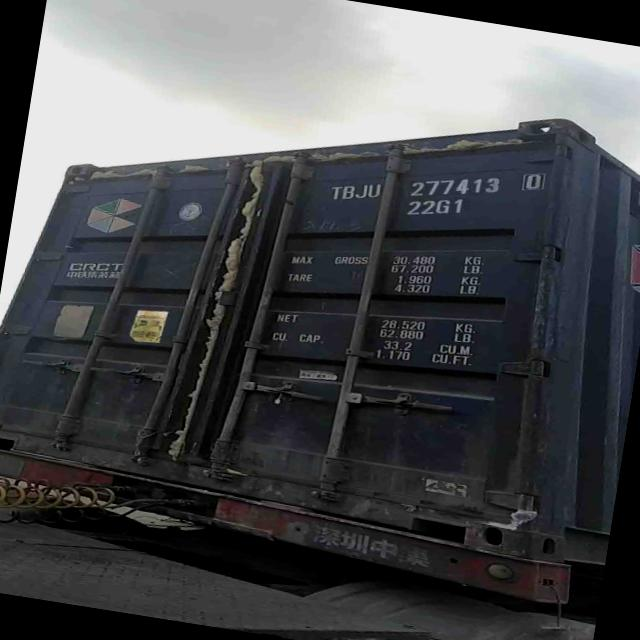seal: (270, 376, 300, 409)
